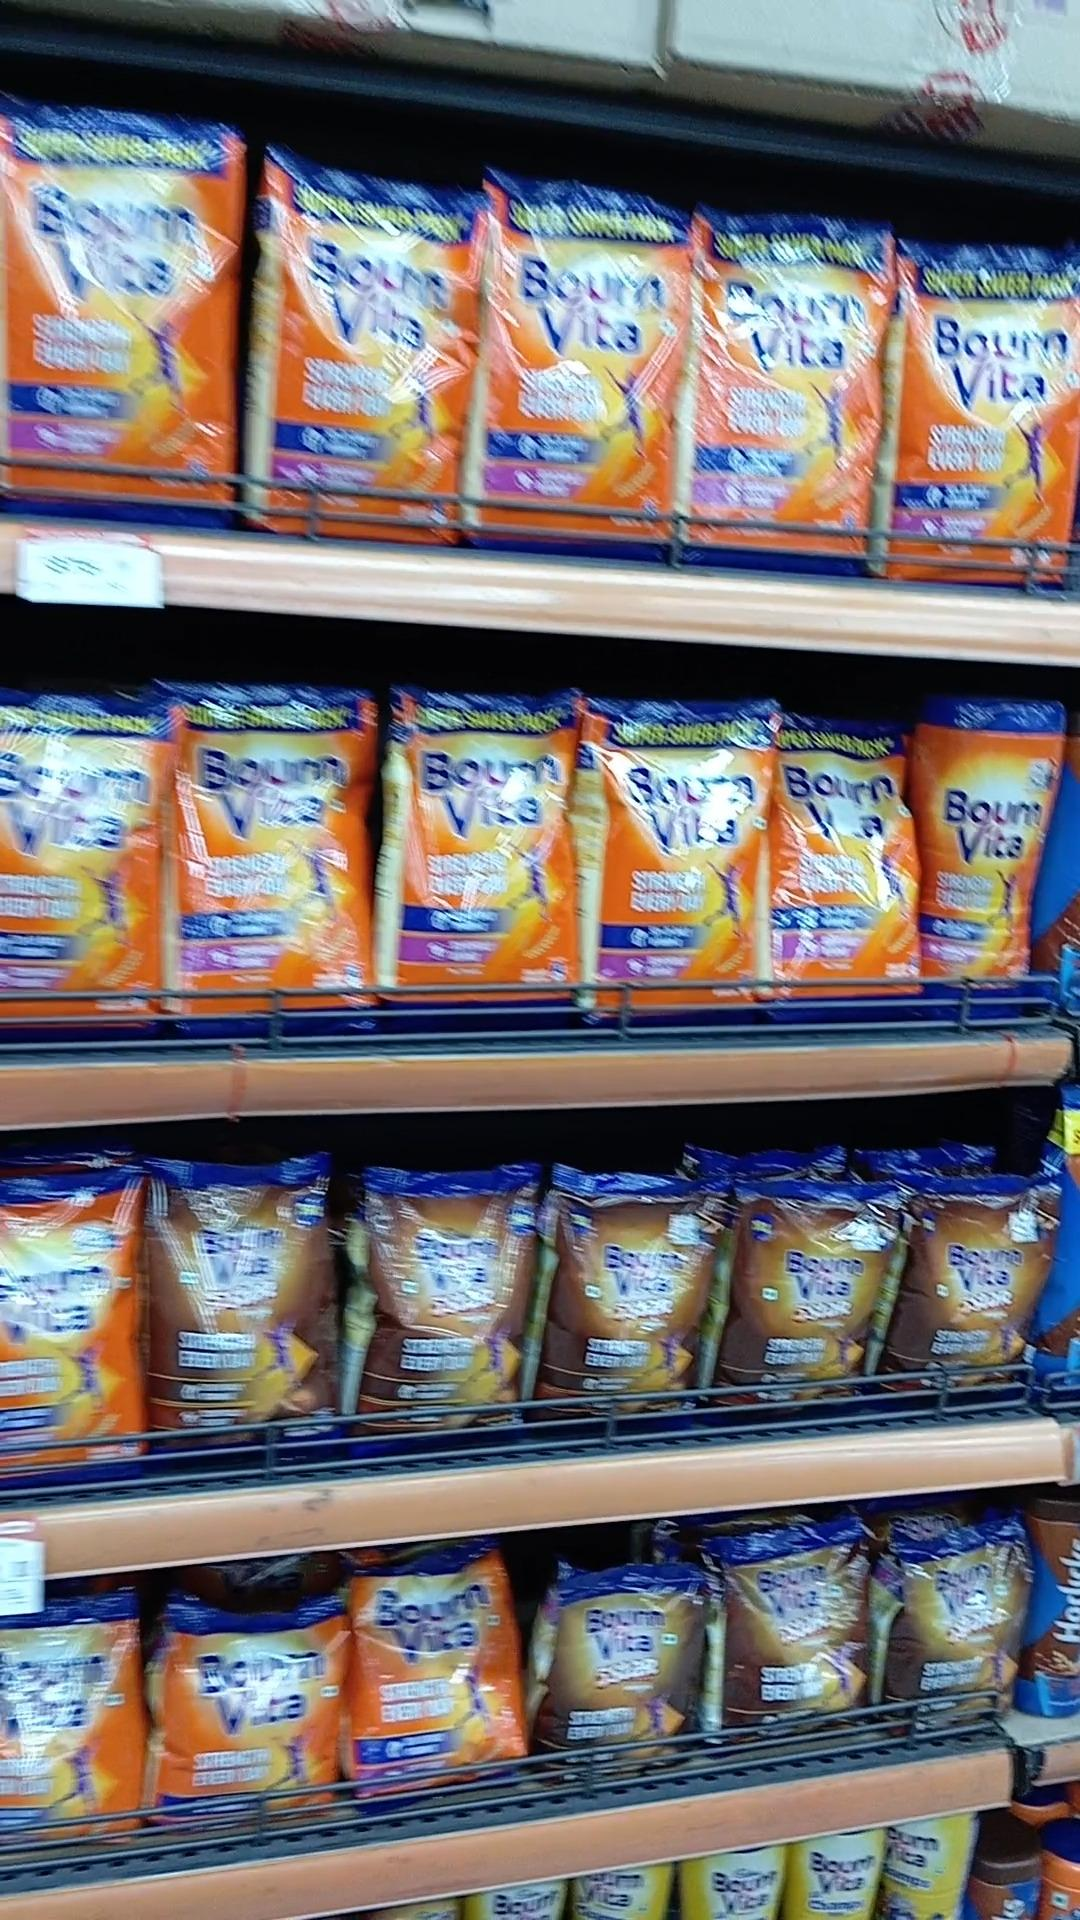BOURN_VITA_1_KG_JAR: (934, 687, 1059, 1018)
BOURN_VITA_1_KG_POUCH: (7, 96, 244, 526), (171, 683, 378, 1050), (270, 152, 456, 535), (489, 186, 671, 558), (695, 206, 876, 572), (899, 229, 1080, 588), (584, 686, 770, 1033), (390, 692, 574, 1040), (0, 680, 164, 1047), (774, 687, 927, 1033)
BOURN_VITA_500_G_POUCH: (355, 1559, 518, 1812), (157, 1609, 331, 1834), (0, 1605, 145, 1861)
BOURN_VITA_750_G_POUCH: (0, 1160, 149, 1493)
BOURN_VITA_FIVE_STAR_MAGIC_500_G_POUCH: (721, 1532, 876, 1756), (543, 1578, 695, 1776), (899, 1539, 1033, 1745)
BOURN_VITA_FIVE_STAR_MAGIC_750_G_POUCH: (160, 1160, 349, 1477), (372, 1163, 538, 1457), (553, 1172, 724, 1437), (914, 1189, 1076, 1428), (744, 1189, 899, 1431)
